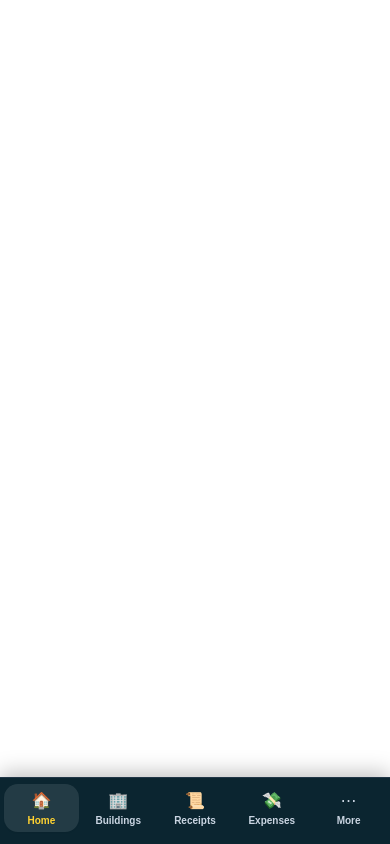
Test: Navigation & Session State UX Verification › 3. More Drawer Surface & Secondary Actions › surfaces Receipt Books, Volunteers, Handovers, Mandal QR, and Reports in Admin More drawer
// Open mobile More drawer
Click the button with test id "mobile-nav-tab-more_drawer" at (349, 808), box left=311, top=784, right=386, bottom=832
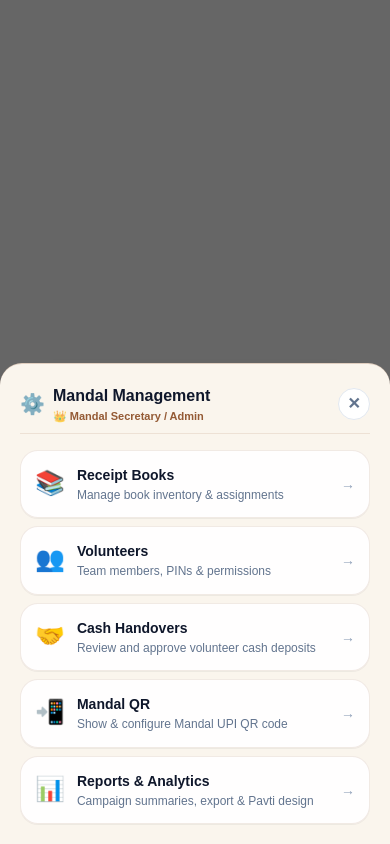
Result: the button with test id "drawer-tab-receiptBooks" is shown at left=20, top=450, right=370, bottom=518
Result: the button with test id "drawer-tab-volunteers" is shown at left=20, top=526, right=370, bottom=594
Result: the button with test id "drawer-tab-handovers" is shown at left=20, top=602, right=370, bottom=671
